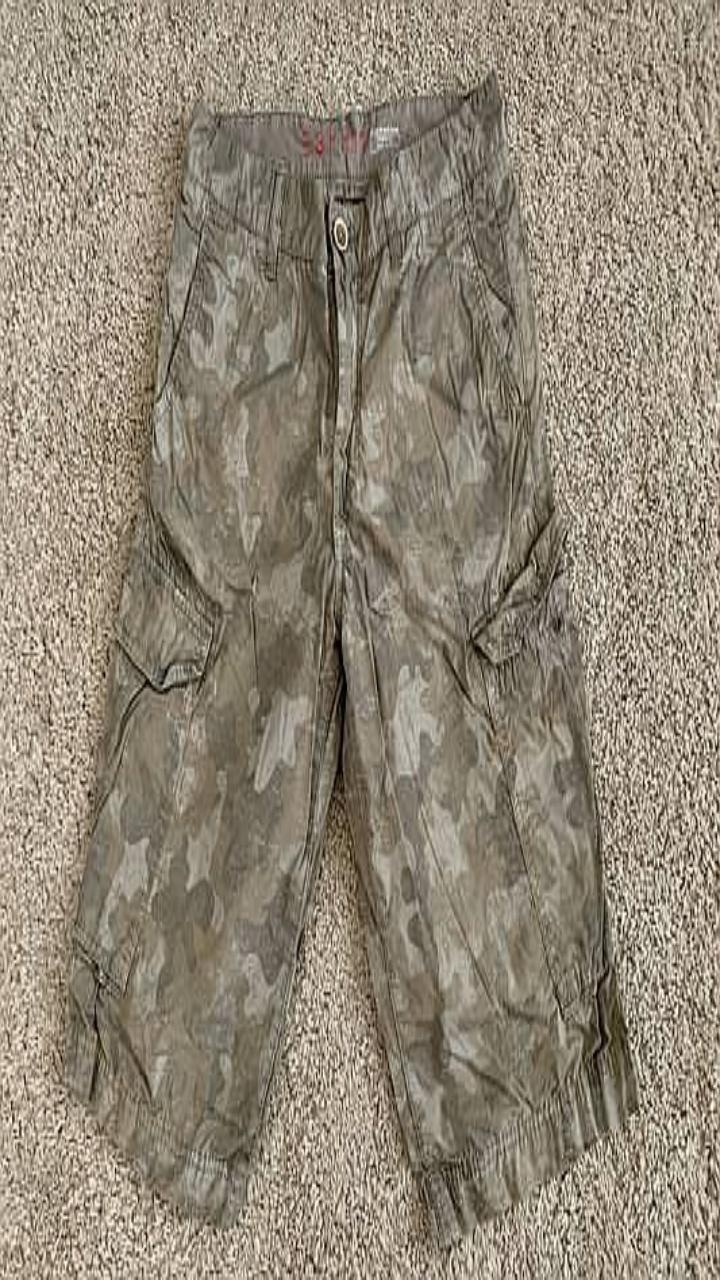Shorts: (65, 72, 636, 1244)
